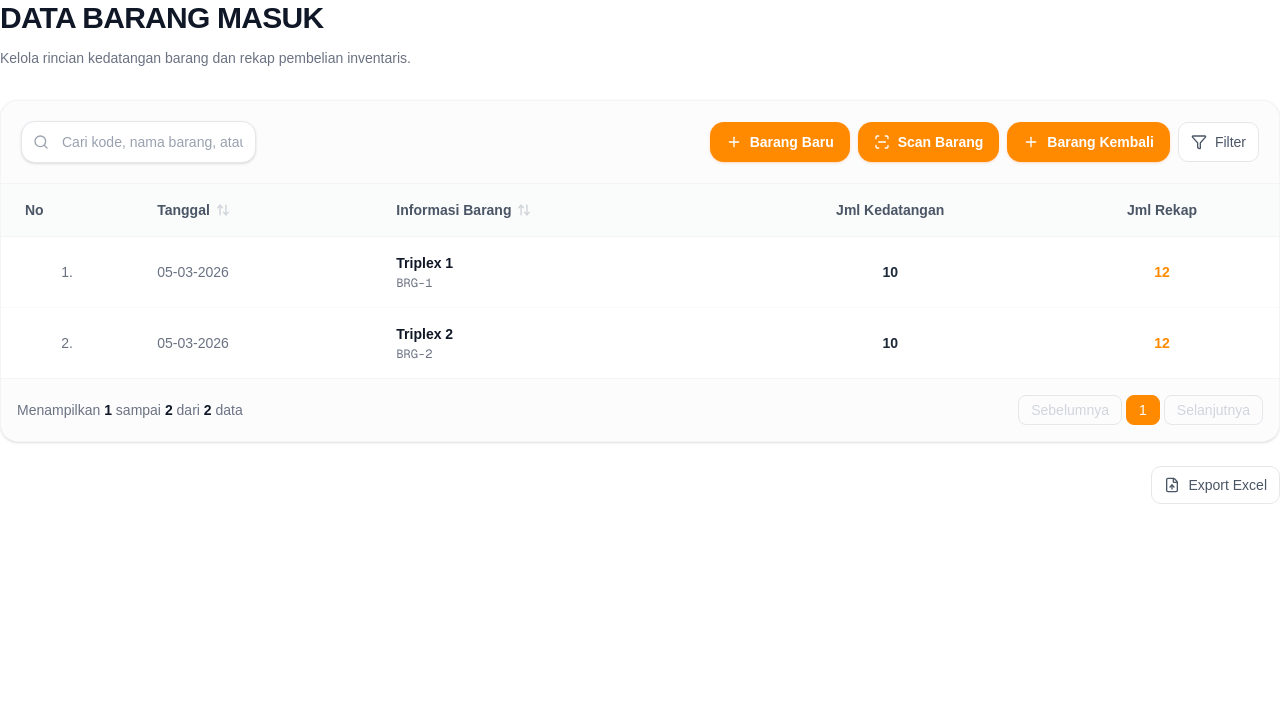
Scenario: BarangMasuk create inbound › validates required fields
The width and height of the screenshot is (1280, 720).
Check: the text "Triplex 1" is shown, box [396,255,453,271]
What coordinates should you click on to do the following:
click the button "Barang Baru"
I would click on:
 (780, 142)
Its box is [710,122,850,162].
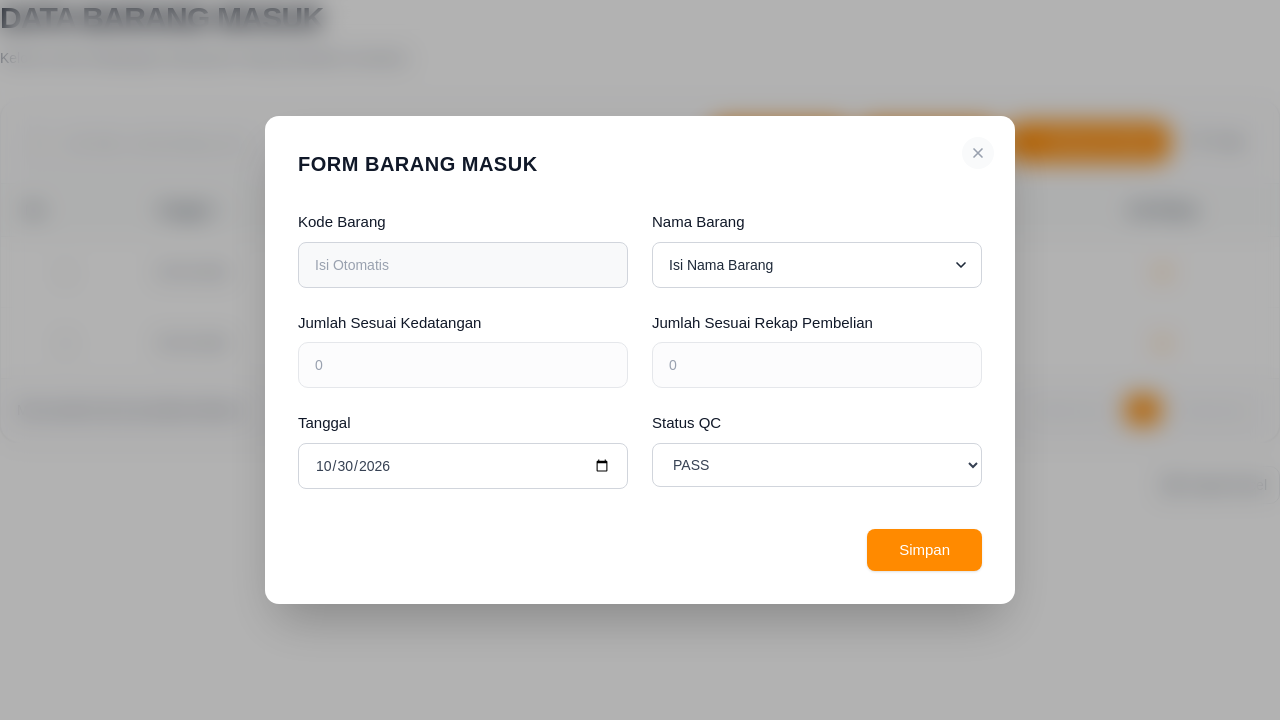
Check: the heading "FORM BARANG MASUK" is shown, box [298,153,538,175]
What coordinates should you click on to do the following:
click the button "Simpan"
I would click on:
 (925, 550)
Its box is [867,528,982,571].
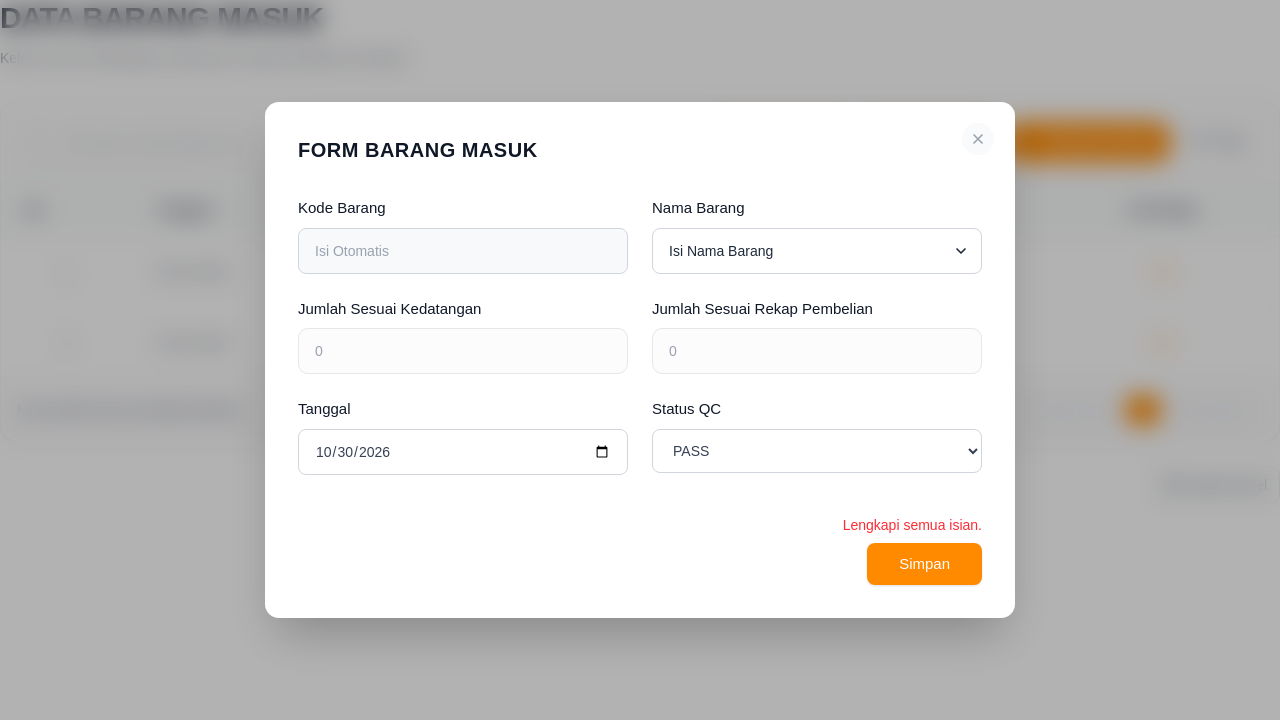
Check: the text "Lengkapi semua isian." is shown, box [843,516,982,532]
